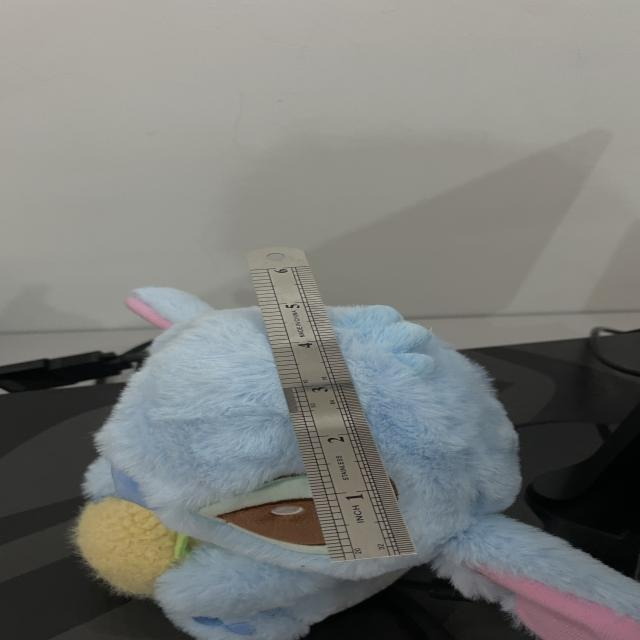ruler: (247, 248, 415, 562)
